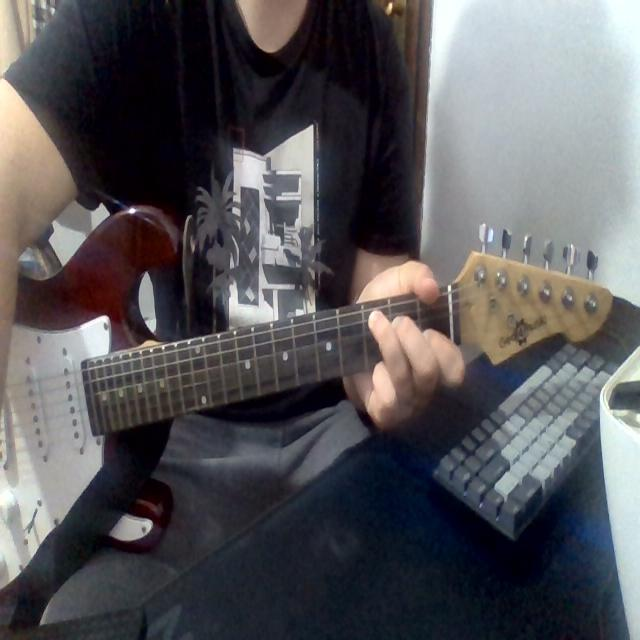C: (361, 291, 474, 433)
